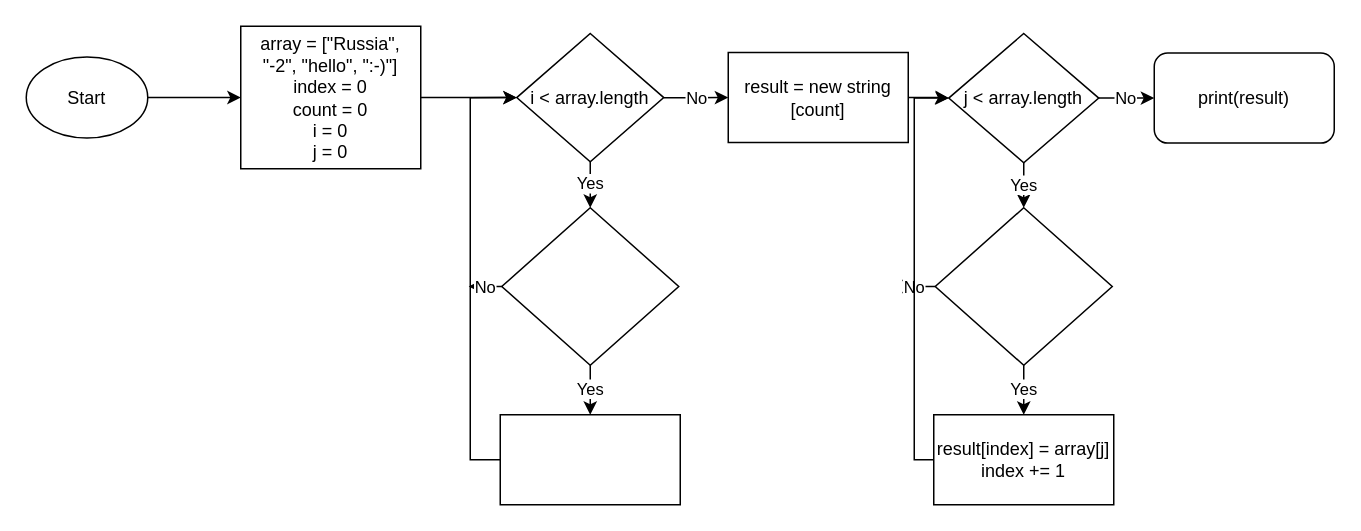
Some shapes in this 1361 by 531 pixel diagram are drawn without their labels. Here are the shapes that lost their labels. From the top down, the centre of each, then its label:
At (589,285): "array[i].length <= 3".
At (1023,285): "array[j].length <= 3".
At (589,459): "count += 1".
